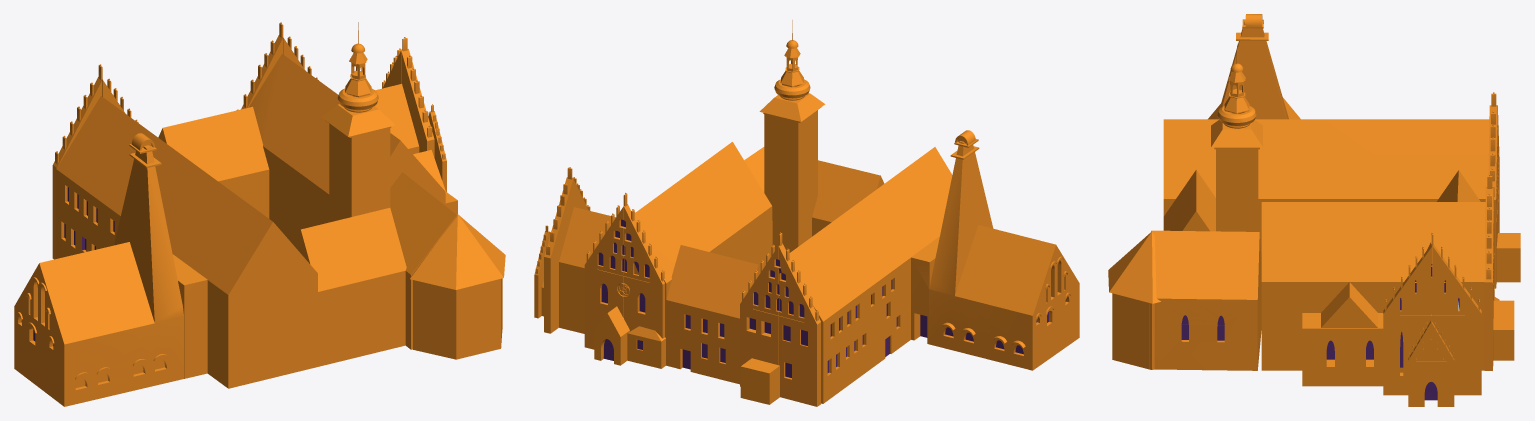
File: Kościół Bernardynów.fbx
The picture shows the model from 3 angles, left to right: view 1: azimuth 30°, elevation 25°; view 2: azimuth 150°, elevation 25°; view 3: azimuth 270°, elevation 25°; orthographic projection. The views are drawn at different scales.
Visible parts, largest first — view 1: Kościół_Bernardynów_obj_0; view 2: Kościół_Bernardynów_obj_0; view 3: Kościół_Bernardynów_obj_0.
Boxes of the visible parts, box(x1,y1,x2,y2) form: Kościół_Bernardynów_obj_0: box(14, 22, 505, 406); Kościół_Bernardynów_obj_0: box(534, 20, 1079, 406); Kościół_Bernardynów_obj_0: box(1108, 14, 1520, 406).
Bounding box in the file's own units: 42.2 × 25.09 × 32.45.
1 material, 1 textured.
